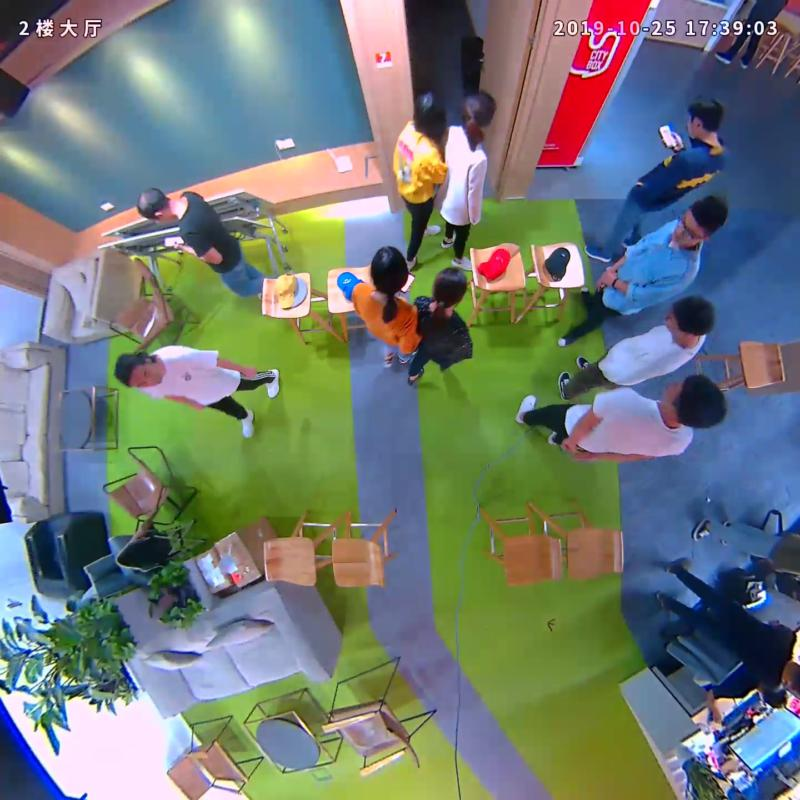head: (663, 374, 728, 429), (671, 194, 728, 248), (666, 294, 713, 340), (370, 245, 408, 294), (113, 352, 163, 389), (414, 87, 446, 136), (688, 95, 723, 138), (460, 90, 497, 129), (431, 266, 467, 306), (135, 187, 173, 222)
